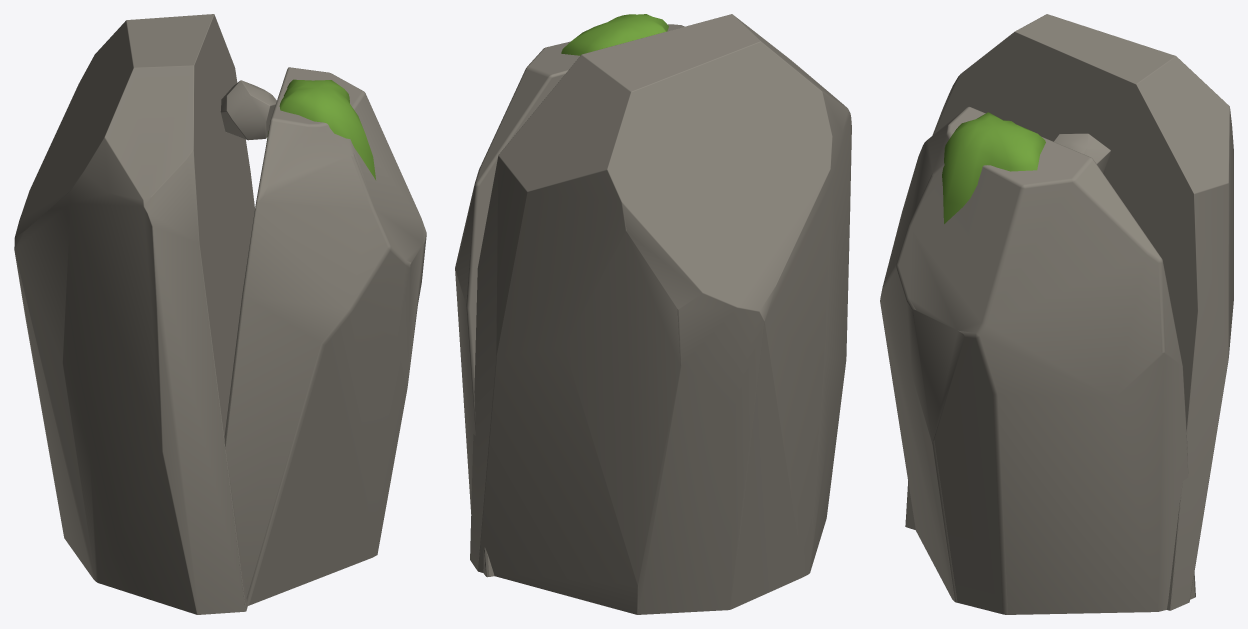
The model's file is rock_c.glb.
3 renders of one model, left to right at view 1: azimuth 30°, elevation 25°; view 2: azimuth 150°, elevation 25°; view 3: azimuth 270°, elevation 25°, orthographic. The views are drawn at different scales.
Visible parts, largest first — view 1: rock_c; view 2: rock_c; view 3: rock_c.
Boxes of the visible parts, box(x1,y1,x2,y2) form: rock_c: box(14, 14, 426, 614); rock_c: box(455, 14, 851, 614); rock_c: box(880, 14, 1233, 614).
Bounding box in the file's own units: 2.53 × 3.71 × 2.4.
